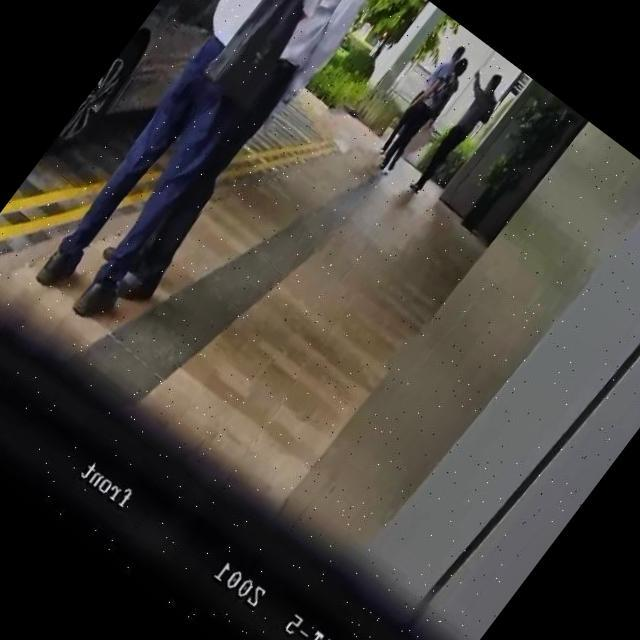person: (4, 0, 375, 332), (83, 0, 395, 319), (394, 63, 514, 204), (372, 51, 478, 180), (372, 42, 469, 162)
